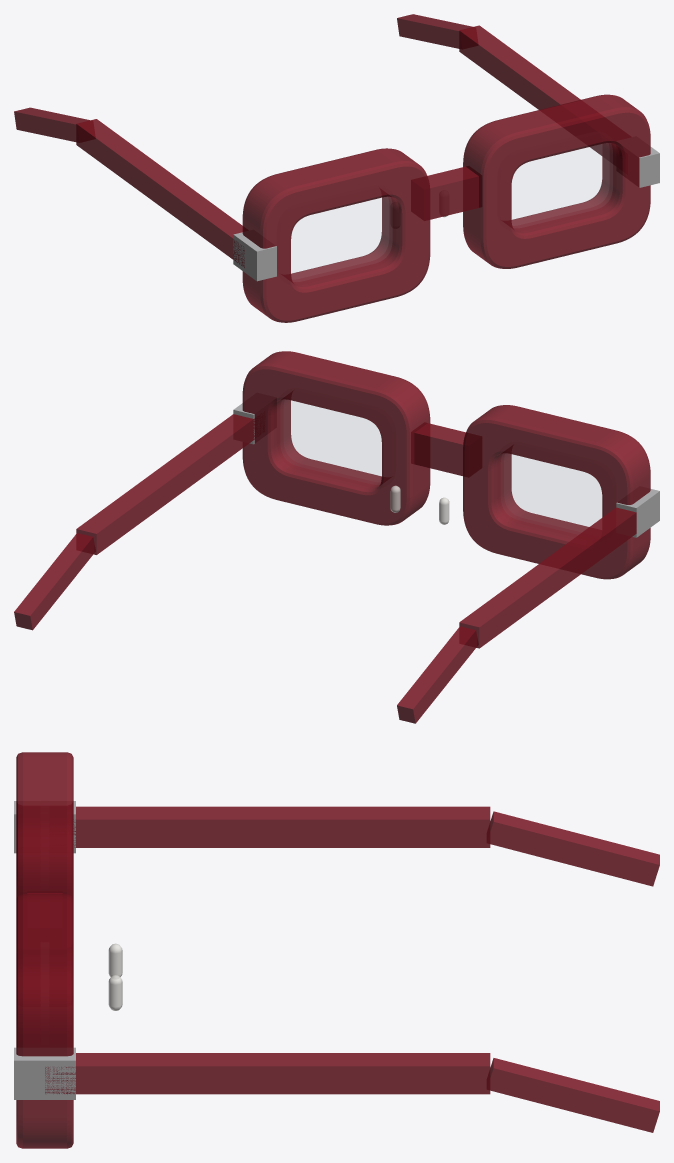
Rendered from frame006.glb.
The picture shows the model from 3 angles, top to bottom: view 1: azimuth 30°, elevation 25°; view 2: azimuth 150°, elevation 25°; view 3: azimuth 270°, elevation 25°; orthographic projection. The views are drawn at different scales.
Parts seen in each view (by area): view 1: RightRim, LeftRim, LeftTemple, RightLens, LeftLens, RightTemple, Bridge, LeftHinge, RightHinge; view 2: RightRim, LeftRim, RightTemple, LeftTemple, RightLens, LeftLens, Bridge, LeftHinge; view 3: RightTemple, LeftTemple, RightRim, LeftRim, RightHinge.
Boxes of the visible parts, bbox=[...] form: RightRim: bbox=[463, 94, 650, 268]; LeftRim: bbox=[242, 148, 430, 322]; LeftTemple: bbox=[14, 107, 244, 267]; RightLens: bbox=[512, 143, 609, 225]; LeftLens: bbox=[291, 197, 388, 279]; RightTemple: bbox=[397, 14, 602, 155]; Bridge: bbox=[427, 166, 478, 219]; LeftHinge: bbox=[233, 232, 276, 281]; RightHinge: bbox=[639, 146, 659, 187]; RightRim: bbox=[242, 351, 430, 525]; LeftRim: bbox=[463, 405, 650, 579]; RightTemple: bbox=[14, 414, 254, 630]; LeftTemple: bbox=[397, 507, 636, 723]; RightLens: bbox=[284, 400, 381, 481]; LeftLens: bbox=[504, 454, 601, 531]; Bridge: bbox=[414, 423, 465, 475]; LeftHinge: bbox=[616, 489, 659, 537]; RightTemple: bbox=[45, 1053, 659, 1132]; LeftTemple: bbox=[74, 806, 659, 886]; RightRim: bbox=[16, 894, 73, 1148]; LeftRim: bbox=[16, 752, 73, 898]; RightHinge: bbox=[14, 1047, 75, 1099].
Bounding box in the file's own units: 0.139 × 0.0444 × 0.1462.
